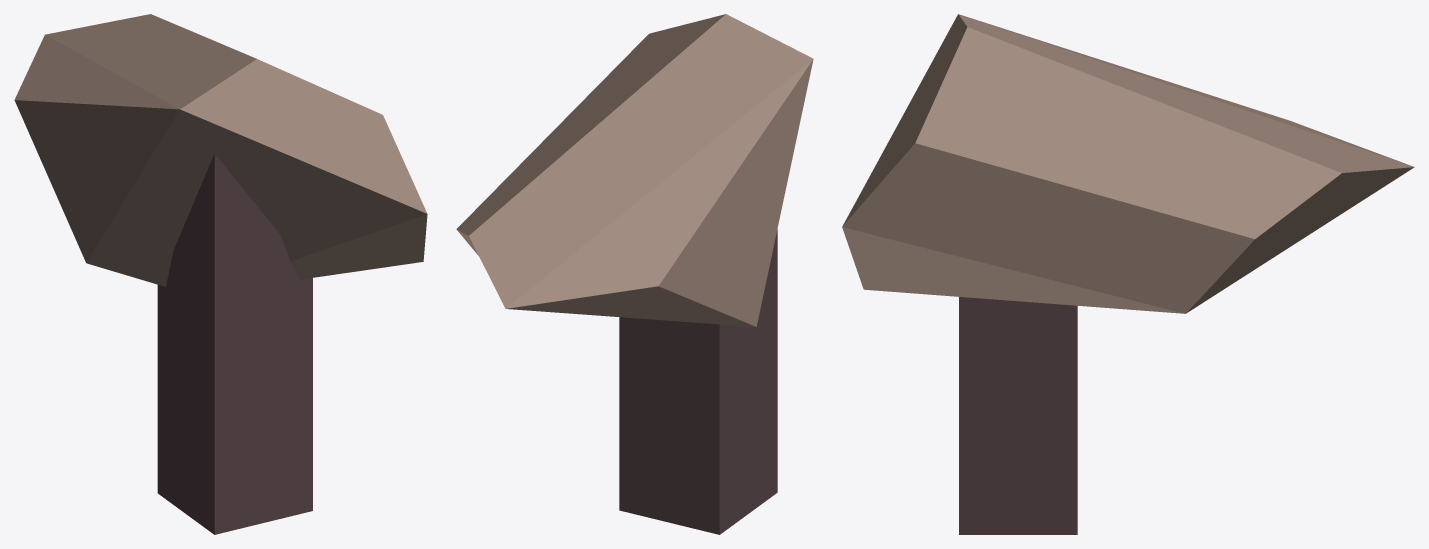
The model's file is rock_hammer.glb.
3 views of the same model, side by side, from view 1: azimuth 30°, elevation 25°; view 2: azimuth 150°, elevation 25°; view 3: azimuth 270°, elevation 25° (orthographic). The views are drawn at different scales.
Parts seen in each view (by area): view 1: Sphere, Cube; view 2: Sphere, Cube; view 3: Sphere, Cube.
Boxes of the visible parts, bbox=[...] form: Sphere: bbox=[14, 14, 427, 286]; Cube: bbox=[157, 154, 312, 534]; Sphere: bbox=[456, 14, 813, 326]; Cube: bbox=[619, 229, 777, 534]; Sphere: bbox=[842, 14, 1414, 313]; Cube: bbox=[959, 297, 1077, 534].
Bounding box in the file's own units: 0.5775 × 1.12 × 1.21.
